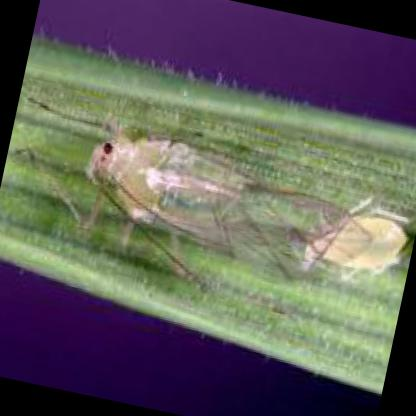schizaphis graminum: (86, 134, 332, 268)
